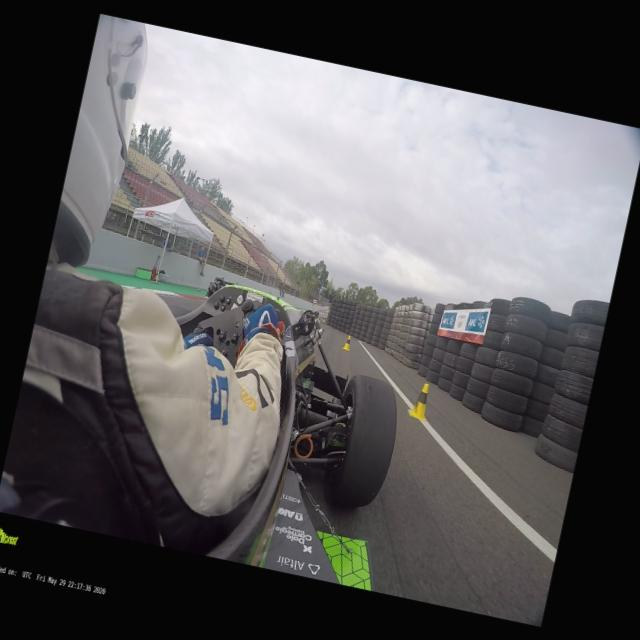yellow_cone: (405, 382, 433, 422), (341, 334, 352, 351), (321, 316, 325, 322)
